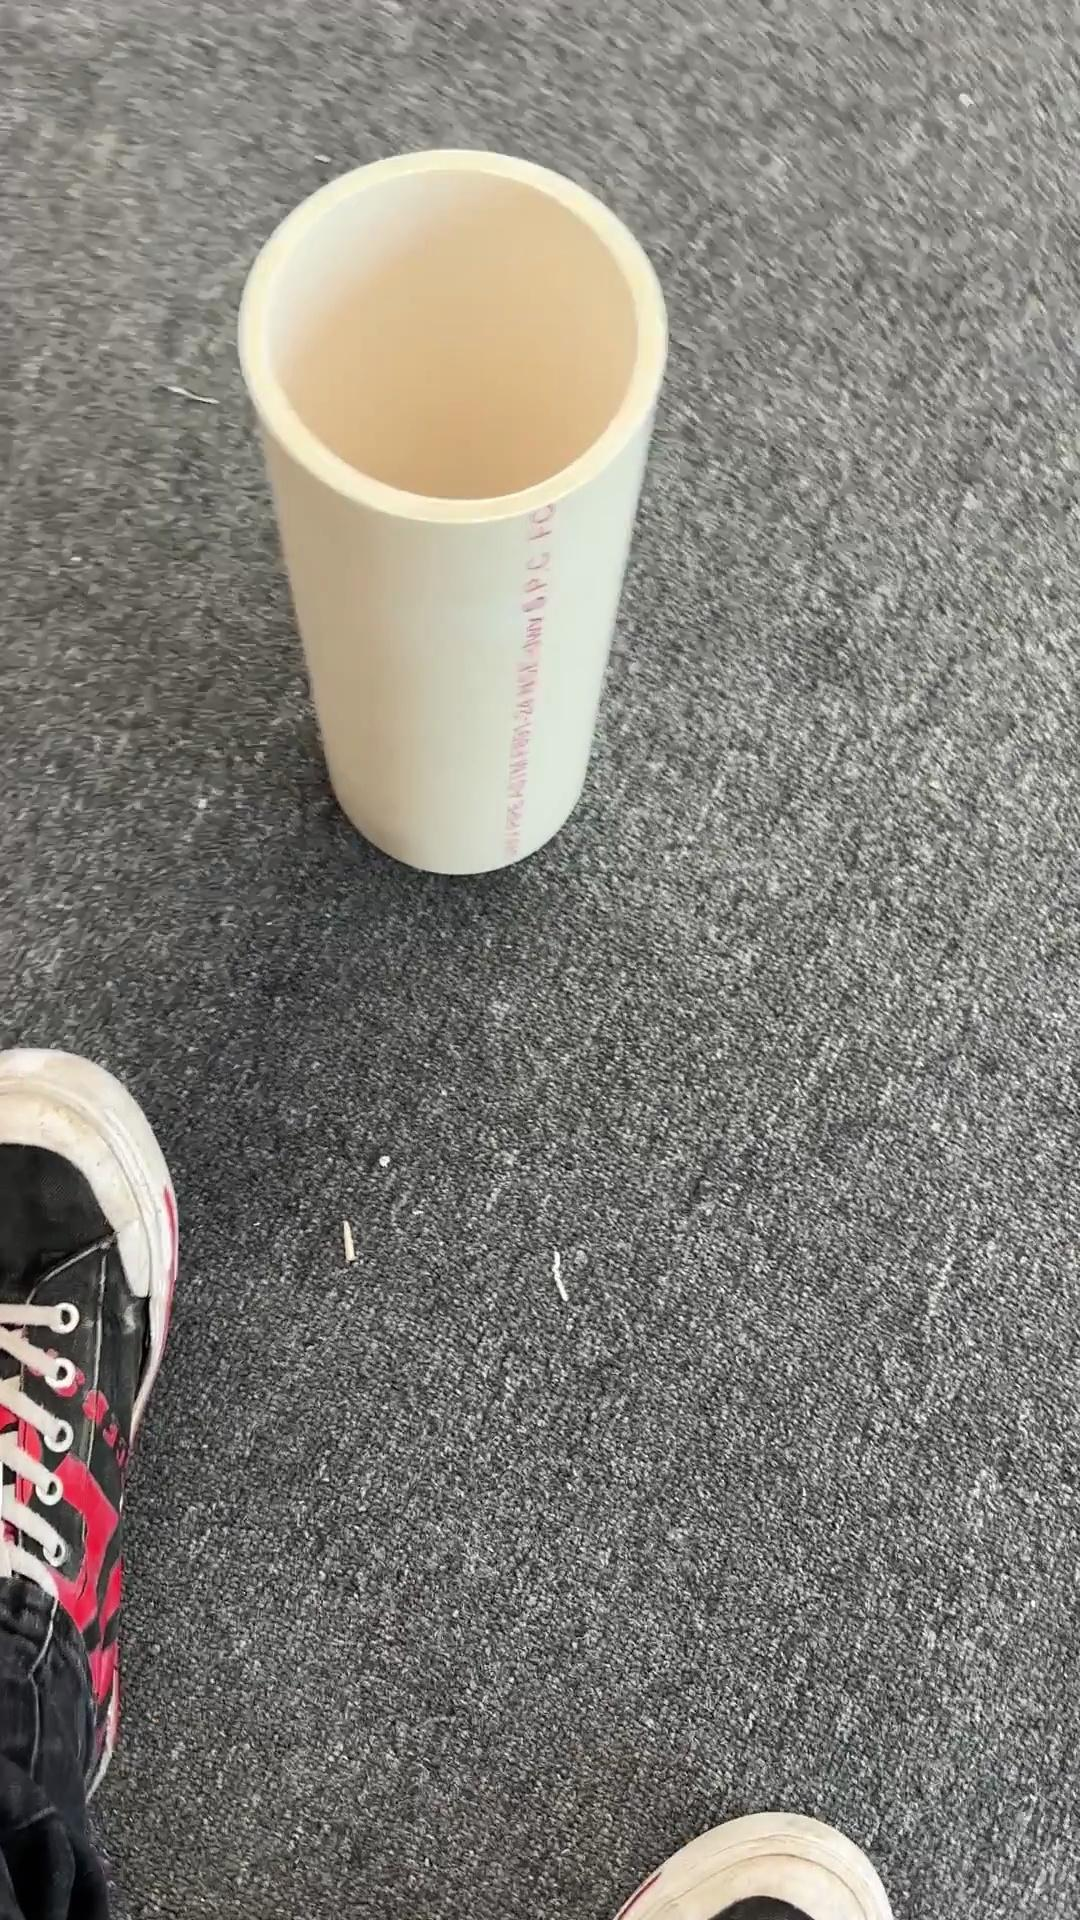CORAL: (233, 145, 670, 877)
